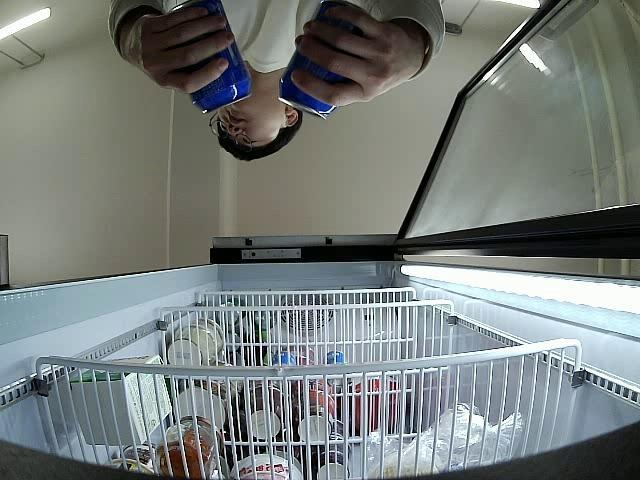13_pocariSweat: (277, 0, 371, 122), (168, 0, 253, 116)
